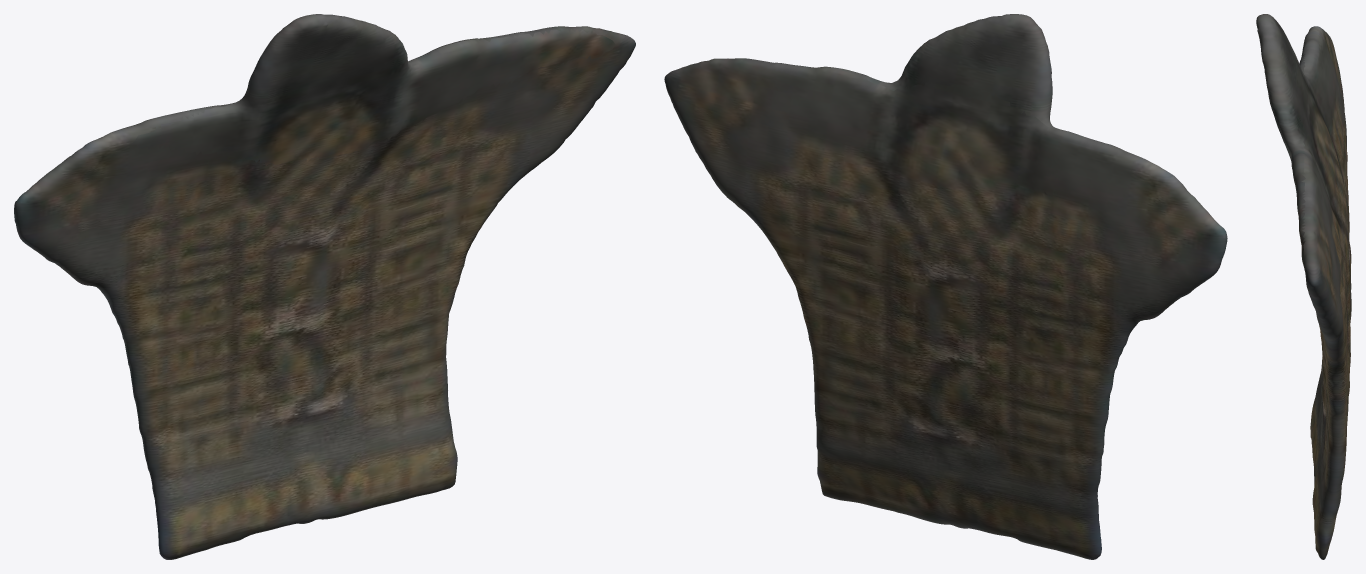
Rendered from kfl-2280.glb.
The picture shows the model from 3 angles, left to right: view 1: azimuth 30°, elevation 25°; view 2: azimuth 150°, elevation 25°; view 3: azimuth 270°, elevation 25°; orthographic projection. The views are drawn at different scales.
Visible parts, largest first — view 1: geometry_0; view 2: geometry_0; view 3: geometry_0.
Part boxes in pixels (x1,y1,x2,y2): geometry_0: [14, 14, 635, 559]; geometry_0: [664, 14, 1227, 559]; geometry_0: [1256, 14, 1351, 559].
Bounding box in the file's own units: 0.9866 × 0.8279 × 0.1526.
1 material, 1 textured.
